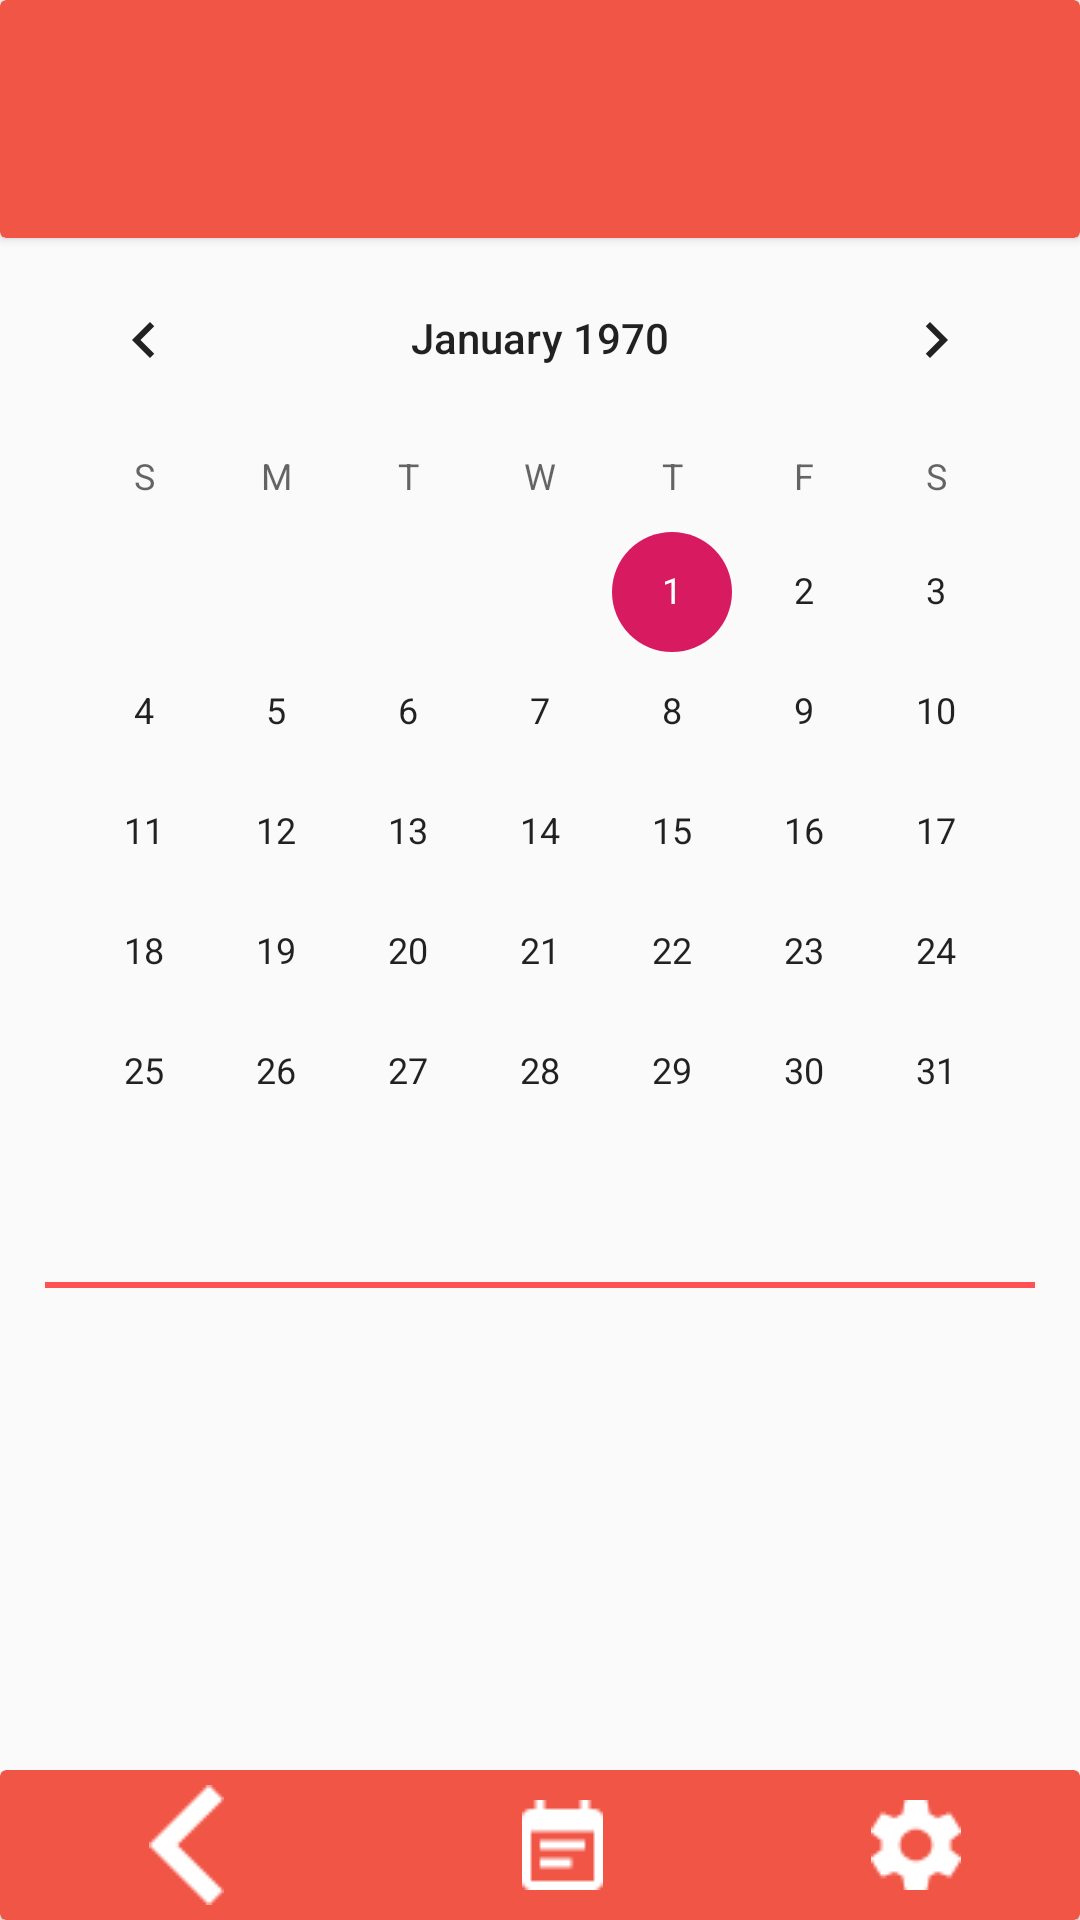

Icon bounding boxes for this 1080*1920 phone screenshot, format (x1, y1, x2, y2):
ajuste: (871, 1800, 1080, 1920)
calendario: (522, 1800, 603, 1890)
paso atras: (0, 1785, 224, 1920)
